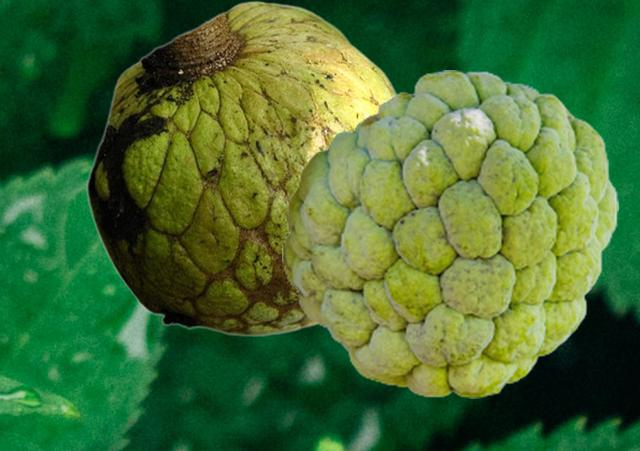atis: (282, 70, 617, 397), (85, 0, 398, 336)
